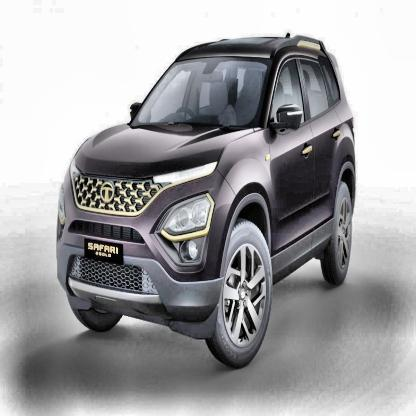TATA Safari: (83, 237, 120, 265)
